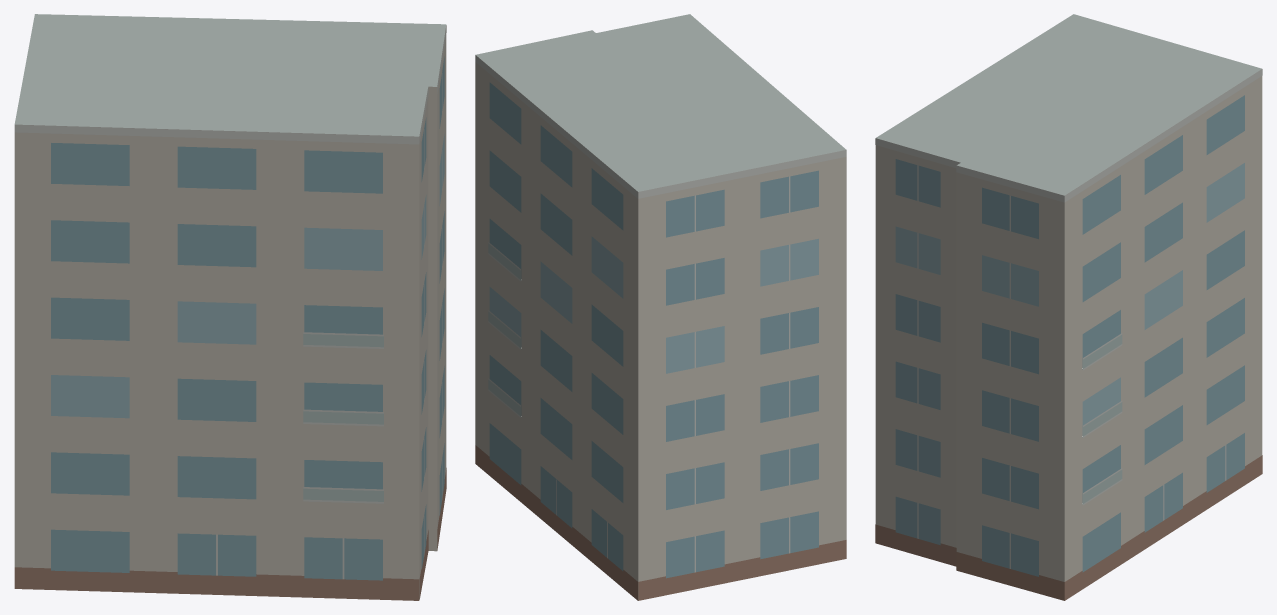
The model's file is survey-upis-33025876.glb.
3 renders of one model, left to right at view 1: azimuth 30°, elevation 25°; view 2: azimuth 150°, elevation 25°; view 3: azimuth 270°, elevation 25°, orthographic. The views are drawn at different scales.
Visible parts, largest first — view 1: survey-upis-33025876.tmp; view 2: survey-upis-33025876.tmp; view 3: survey-upis-33025876.tmp.
Boxes of the visible parts, box(x1,y1,x2,y2) form: survey-upis-33025876.tmp: box(14, 14, 446, 600); survey-upis-33025876.tmp: box(475, 14, 846, 600); survey-upis-33025876.tmp: box(875, 14, 1262, 600).
Bounding box in the file's own units: 13.86 × 14.4 × 12.47.
